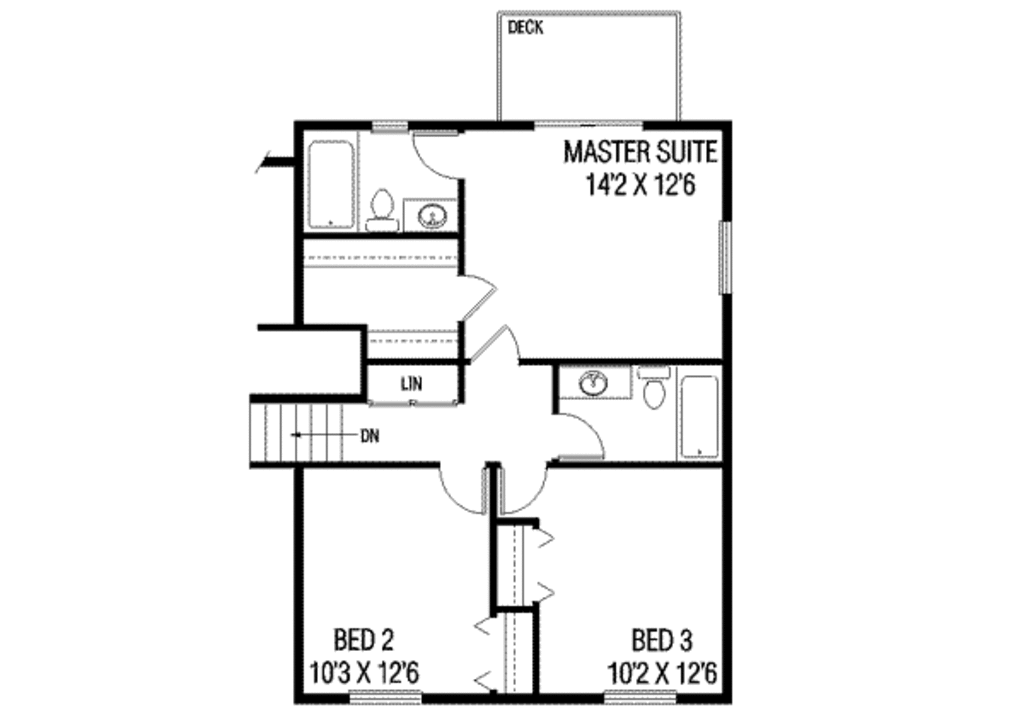door: (500, 462, 557, 517), (406, 129, 465, 179), (438, 462, 491, 516), (555, 410, 611, 460), (471, 320, 528, 369), (458, 269, 503, 317)
large_sink: (363, 182, 407, 236), (633, 365, 674, 417)
small_sink: (397, 194, 460, 235), (554, 364, 634, 396)
stairs: (236, 387, 380, 468)
tub: (302, 128, 364, 232), (674, 367, 735, 462)
window: (711, 216, 748, 297), (600, 682, 684, 710), (346, 684, 437, 706), (533, 117, 644, 132)
